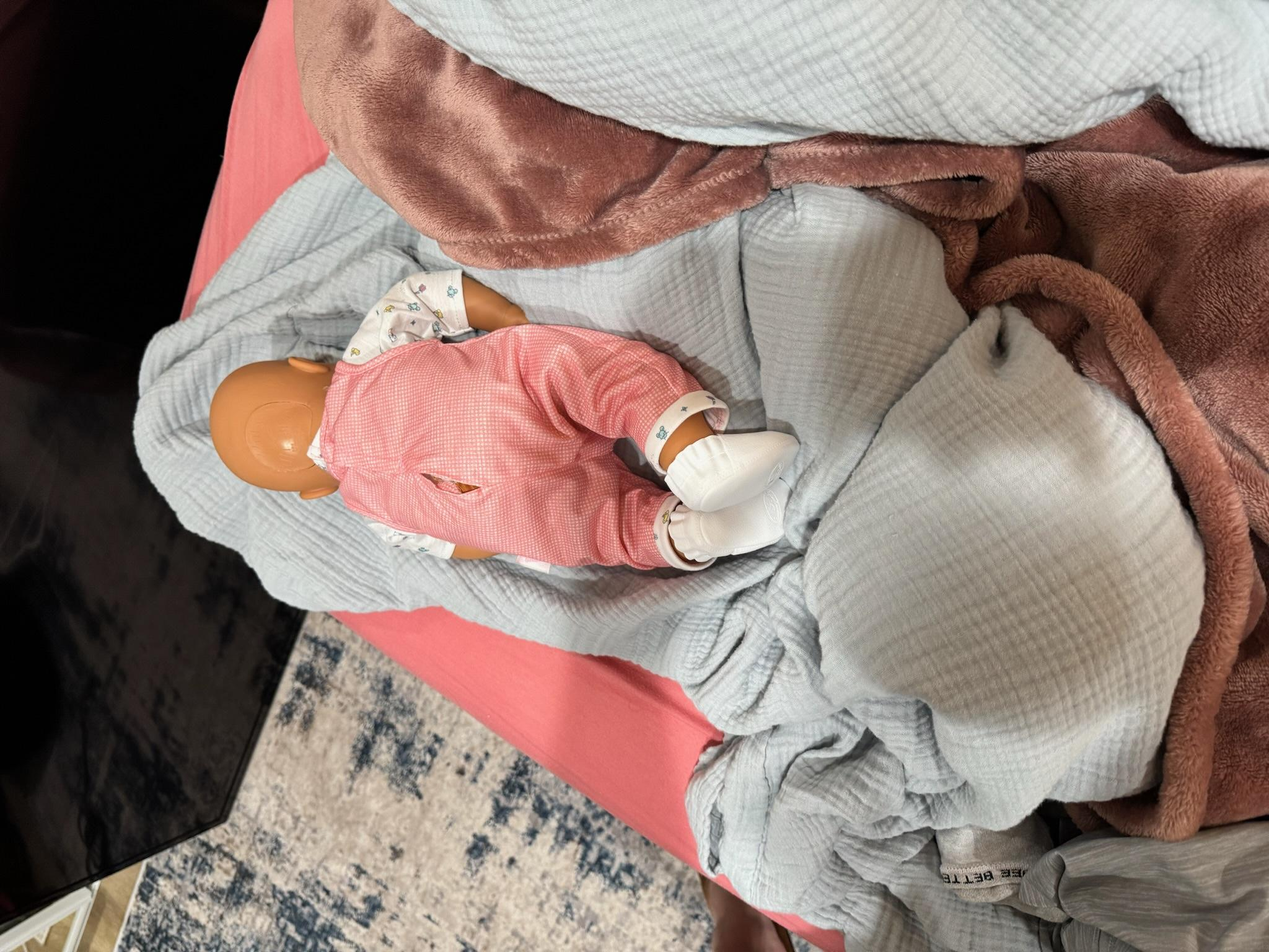baby: (200, 263, 801, 618)
